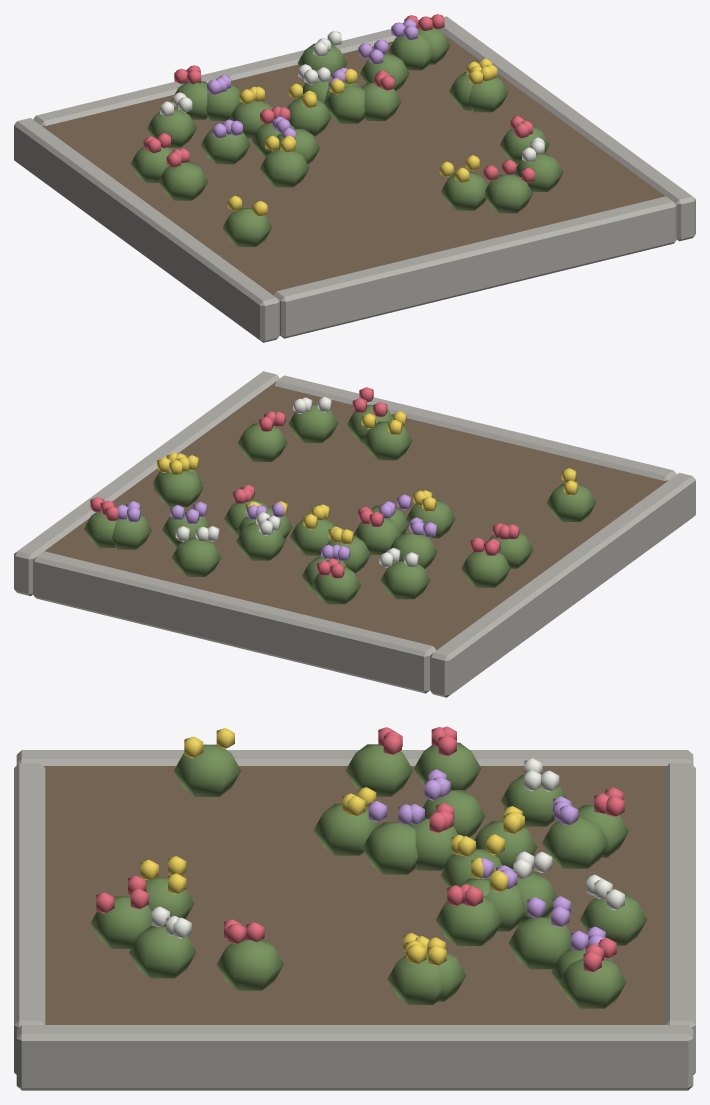
File: v_flower_bed.glb
3 renders of one model, top to bottom at view 1: azimuth 30°, elevation 25°; view 2: azimuth 150°, elevation 25°; view 3: azimuth 270°, elevation 25°, orthographic. The views are drawn at different scales.
Visible parts, largest first — view 1: FlowerBed; view 2: FlowerBed; view 3: FlowerBed.
Part boxes in pixels (x1,y1,x2,y2): FlowerBed: [14, 14, 695, 342]; FlowerBed: [14, 371, 695, 697]; FlowerBed: [14, 726, 695, 1090].
Bounding box in the file's own units: 2.62 × 0.465 × 2.62.
